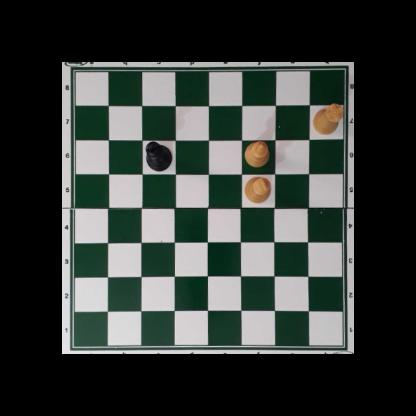black-king: (146, 141, 171, 172)
white-bishop: (245, 140, 268, 167)
white-king: (243, 176, 270, 204)
white-rook: (313, 104, 343, 134)
